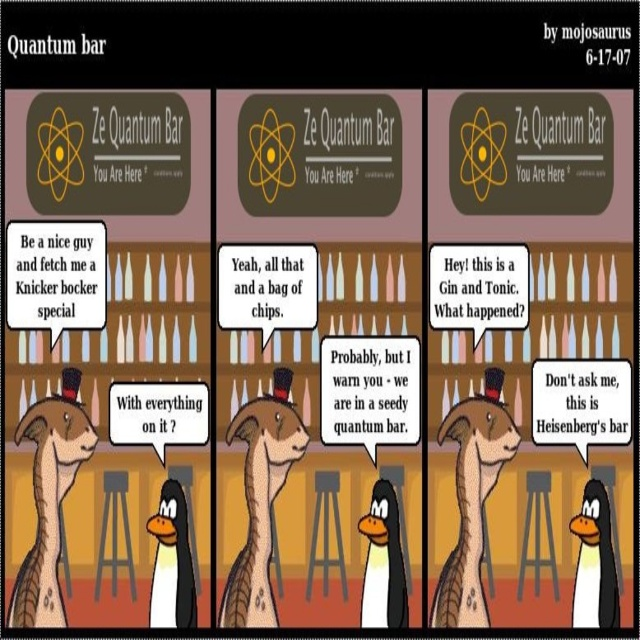Penguin: (571, 462, 624, 623), (143, 482, 199, 631), (359, 475, 410, 626)
